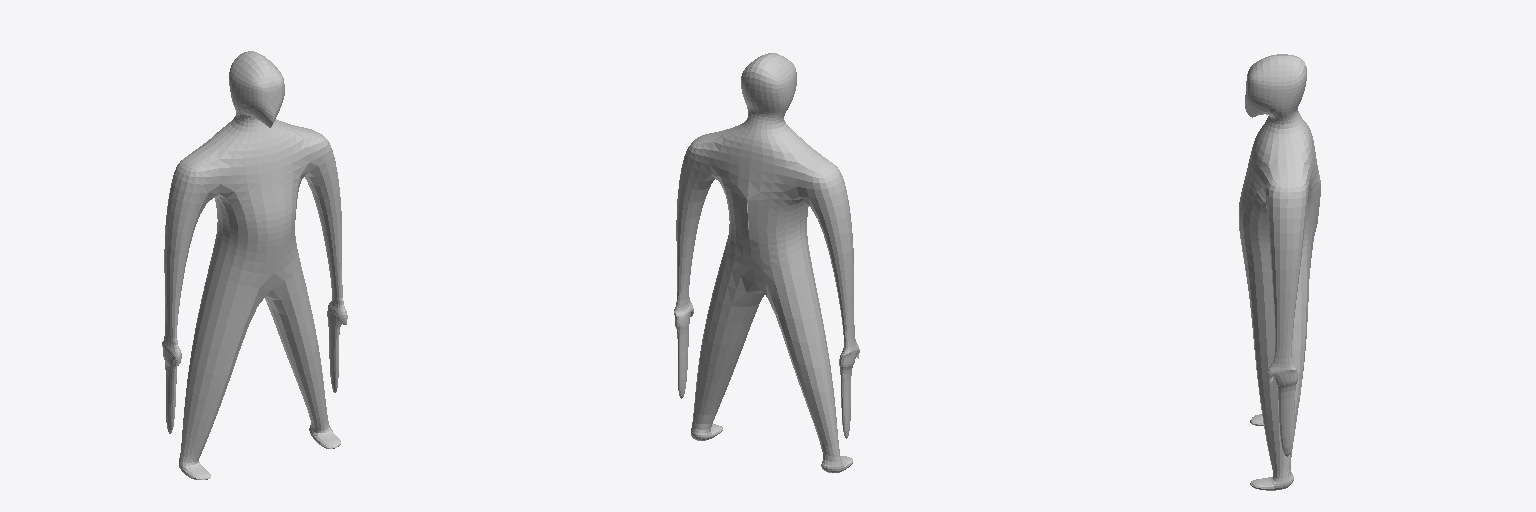
The model's file is finalModel.obj.
3 views of the same model, side by side, from view 1: azimuth 30°, elevation 25°; view 2: azimuth 150°, elevation 25°; view 3: azimuth 270°, elevation 25° (orthographic).
Visible parts, largest first — view 1: Cube; view 2: Cube; view 3: Cube.
Part boxes in pixels (x1,y1,x2,y2): Cube: (162,51,347,479); Cube: (674,53,859,472); Cube: (1239,54,1320,490).
Bounding box in the file's own units: 1.98 × 4.3 × 0.8075.